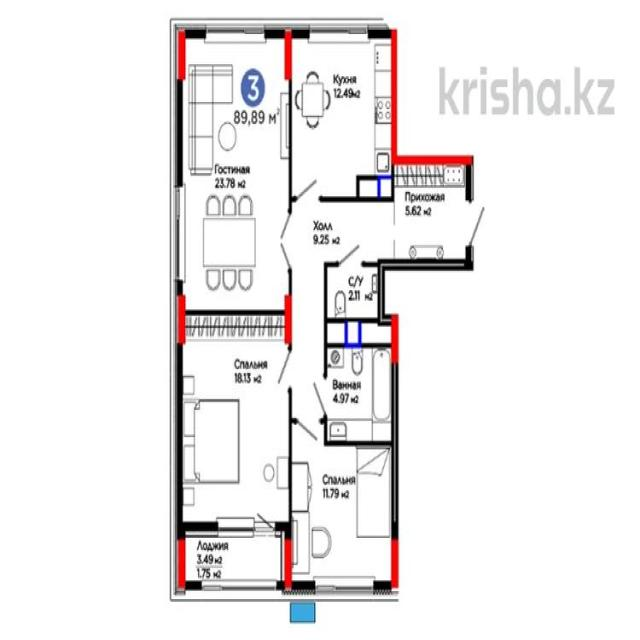balcony: (178, 526, 290, 591)
bathroom: (322, 343, 392, 441), (321, 264, 382, 322)
hallway: (394, 159, 474, 260), (290, 198, 394, 259)
kitchen: (292, 25, 397, 198)
living_room: (172, 27, 291, 316), (180, 325, 288, 524), (292, 444, 395, 584)
